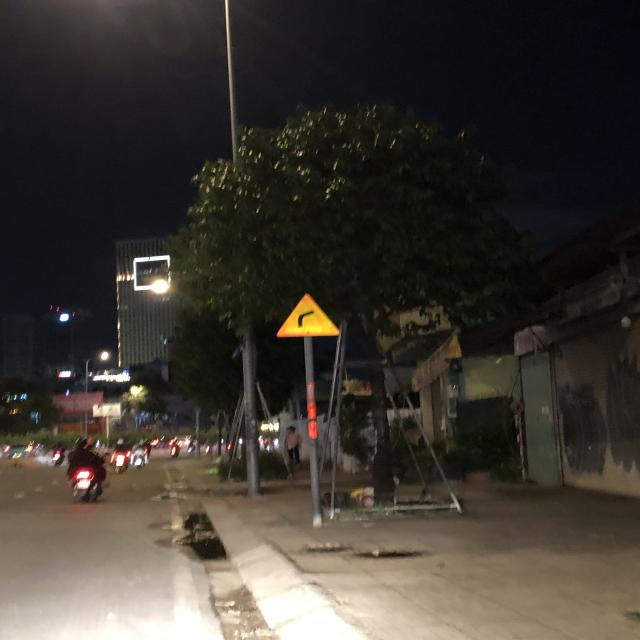Bien bao cho ngoat nguy hiem: (274, 292, 345, 340)
